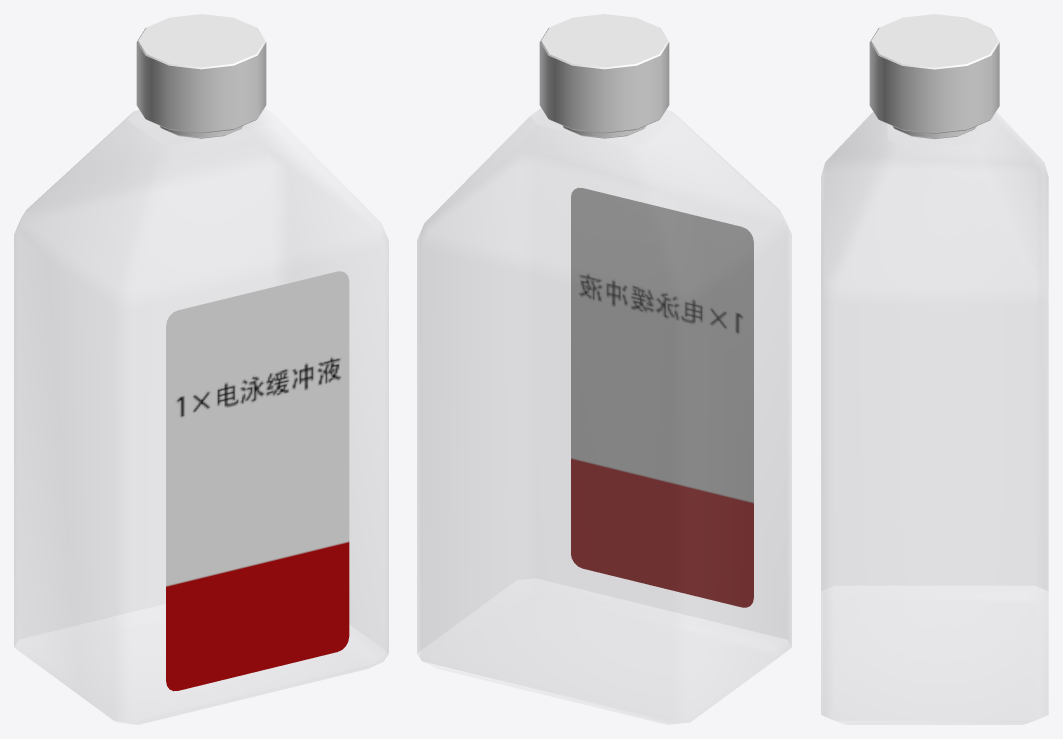
File: 1×电泳缓冲液.glb
3 renders of one model, left to right at view 1: azimuth 30°, elevation 25°; view 2: azimuth 150°, elevation 25°; view 3: azimuth 270°, elevation 25°, orthographic.
Visible parts, largest first — view 1: 1×电泳缓冲液低, 对象011, Cylinder020; view 2: 1×电泳缓冲液低, 对象011, Cylinder020; view 3: 1×电泳缓冲液低, Cylinder020.
Part boxes in pixels (<box>): 1×电泳缓冲液低: <box>14,108,388,724</box>; 对象011: <box>166,271,349,691</box>; Cylinder020: <box>136,14,266,138</box>; 1×电泳缓冲液低: <box>417,108,791,724</box>; 对象011: <box>571,187,753,607</box>; Cylinder020: <box>539,14,669,138</box>; 1×电泳缓冲液低: <box>821,112,1048,724</box>; Cylinder020: <box>869,14,999,139</box>.
Size of the model in its own units: 0.07 by 0.1503 by 0.0502.
Materials: 1 (1 with a texture image).
